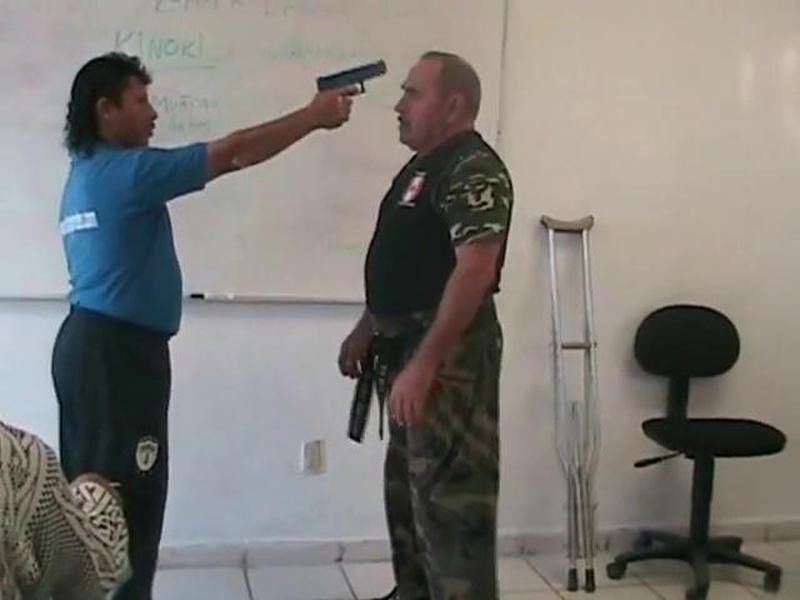Pistola: (297, 52, 403, 103)
